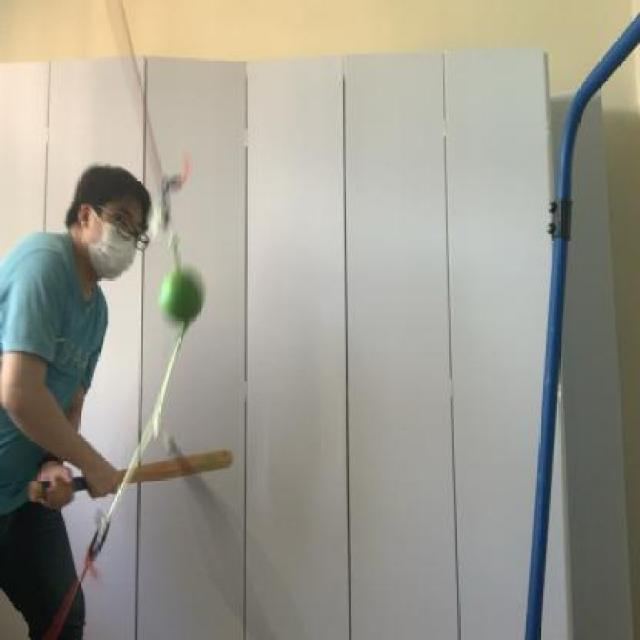baseball: (154, 259, 212, 327)
